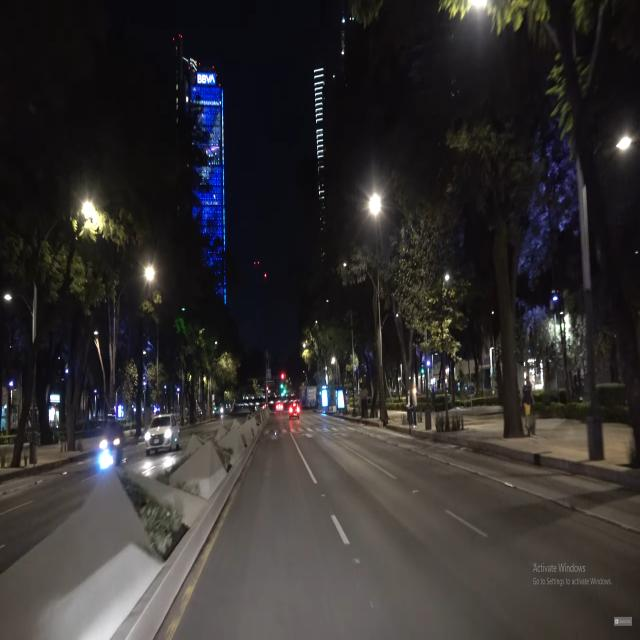headlights: (140, 425, 178, 448), (94, 432, 128, 452)
